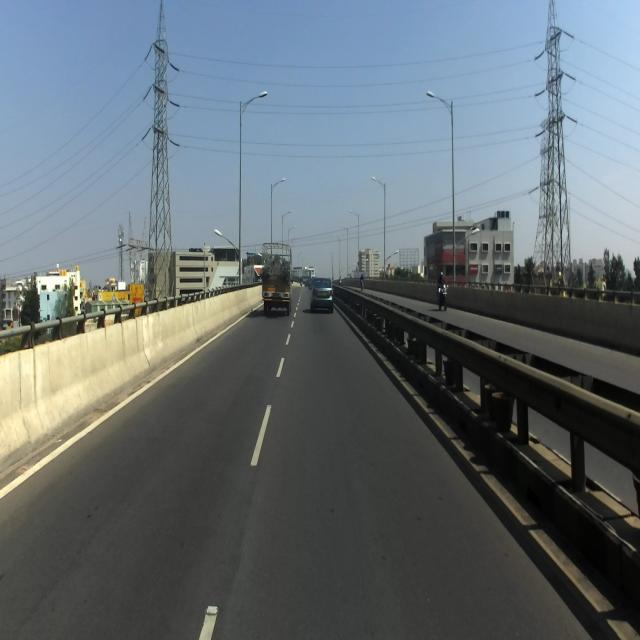car ahead at: (258, 238, 300, 319), (312, 273, 332, 319)
